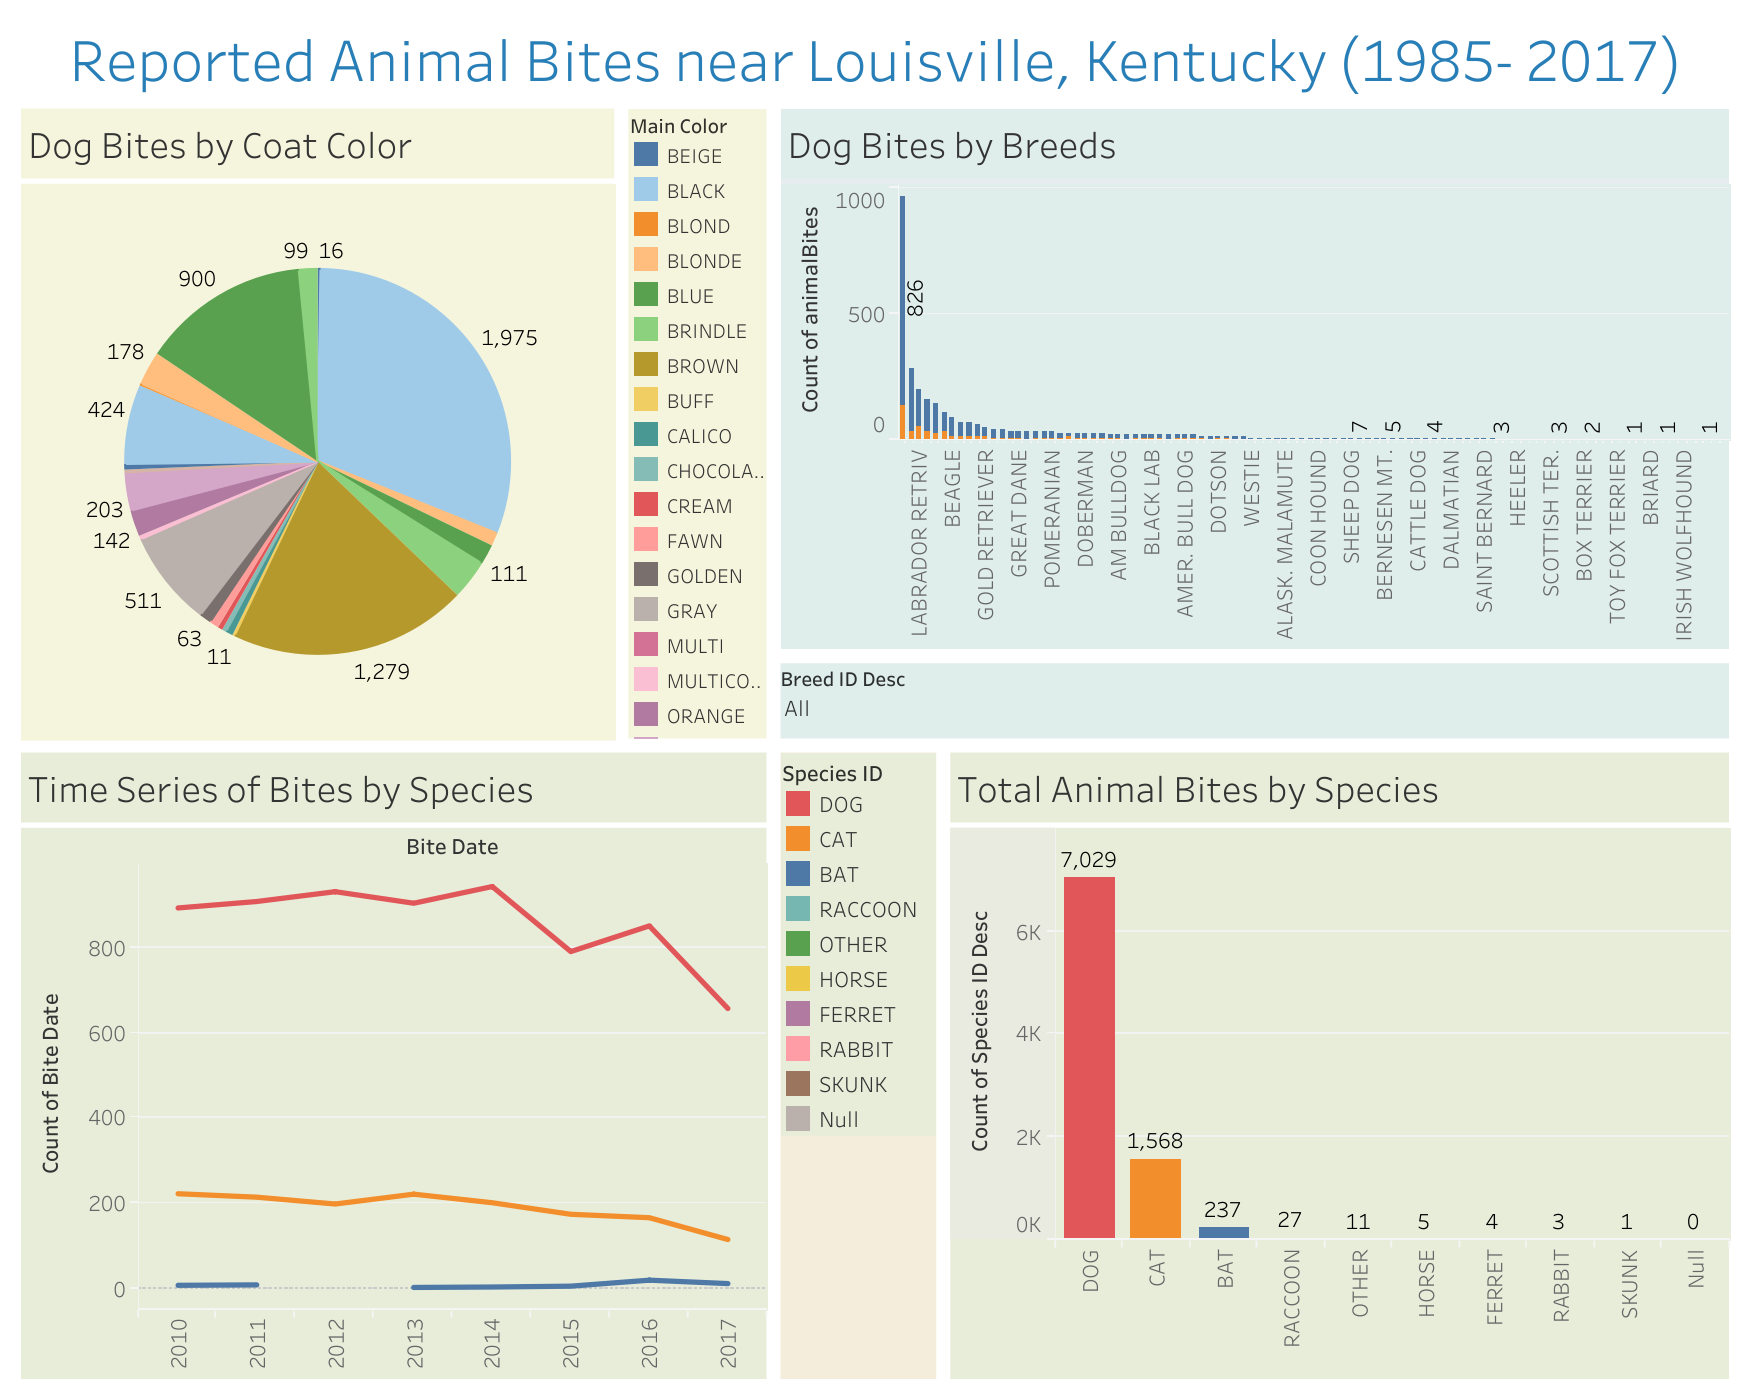

The page's visual inventory and layout, read from the dashboard file:
{"tool":"tableau","page":{"name":"Dashboard 1","canvas":[1000,800],"ordinal":0},"visuals":[{"type":"text","box":[8,8,984,50]},{"type":"worksheet","title":"Dog Bites by Coat Color","mark":"Pie","box":[8,58,347,368]},{"type":"legend","title":"Dog Bites by Coat Color","param":"[federated.1ue0qsk1w4pkv211x9tuw06kgvwk].[none:Color Predominate:nk]","box":[355,58,87,368]},{"type":"worksheet","title":"Dog Bites by Breeds","mark":"Bar","rows":["Health!AnimalBites_05254A646C1F457D900830142E368B57"],"cols":["BreedIDDesc","BreedIDDesc"],"box":[442,58,550,317]},{"type":"filter","title":"Dog Bites by Breeds","param":"[federated.1ue0qsk1w4pkv211x9tuw06kgvwk].[none:BreedIDDesc:nk]","box":[442,375,550,51]},{"type":"worksheet","title":"Time Series of Bites by Species","mark":"Automatic","rows":["bite_date"],"cols":["bite_date"],"box":[8,426,434,366]},{"type":"legend","title":"Total Animal Bites by Species","param":"[federated.1ue0qsk1w4pkv211x9tuw06kgvwk].[none:SpeciesIDDesc:nk]","box":[442,426,97,366]},{"type":"worksheet","title":"Total Animal Bites by Species","mark":"Bar","rows":["SpeciesIDDesc"],"cols":["SpeciesIDDesc"],"box":[539,426,453,366]}]}

Visuals, with their boxes in screenshot pixels (x1, y1, x2, y2), scaled from the page's 1000x800 canvas onto the 1748x1398 screenshot:
text: bbox(14, 14, 1734, 101)
"Dog Bites by Coat Color" worksheet (Pie marks): bbox(14, 101, 621, 744)
"Dog Bites by Coat Color" legend: bbox(621, 101, 773, 744)
"Dog Bites by Breeds" worksheet (Bar marks): bbox(773, 101, 1734, 655)
"Dog Bites by Breeds" filter: bbox(773, 655, 1734, 744)
"Time Series of Bites by Species" worksheet: bbox(14, 744, 773, 1384)
"Total Animal Bites by Species" legend: bbox(773, 744, 942, 1384)
"Total Animal Bites by Species" worksheet (Bar marks): bbox(942, 744, 1734, 1384)
